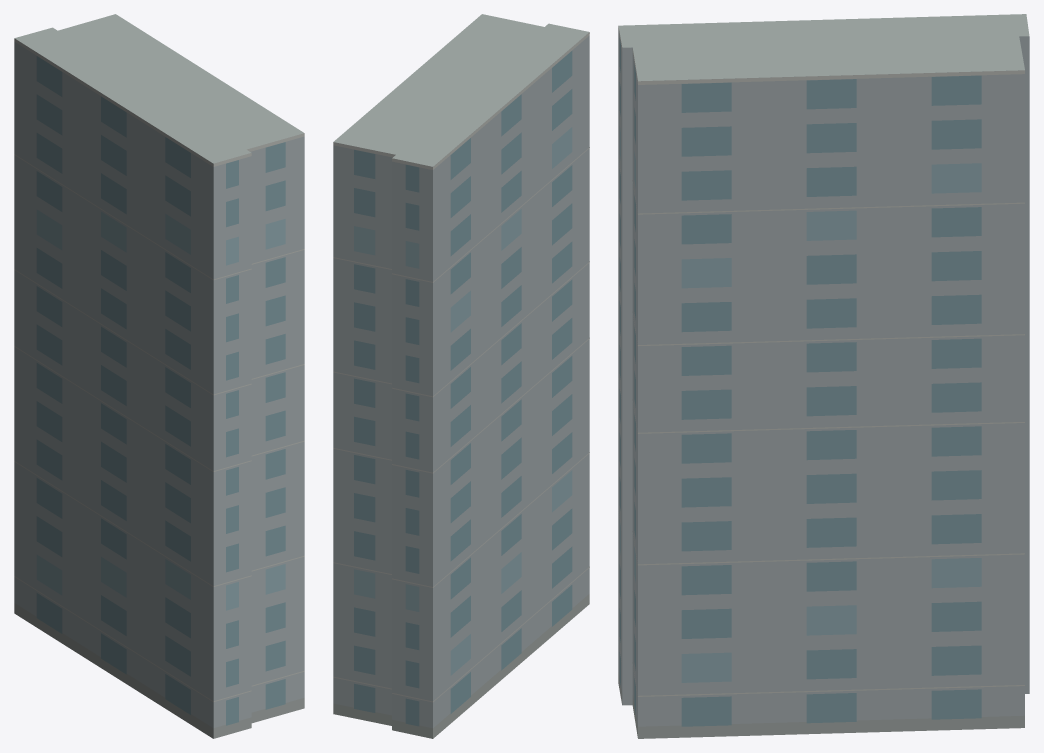
File: survey-upis-32996570.glb
The picture shows the model from 3 angles, left to right: view 1: azimuth 30°, elevation 25°; view 2: azimuth 150°, elevation 25°; view 3: azimuth 270°, elevation 25°; orthographic projection. The views are drawn at different scales.
Parts seen in each view (by area): view 1: survey-upis-32996570.tmp; view 2: survey-upis-32996570.tmp; view 3: survey-upis-32996570.tmp.
Boxes of the visible parts, x1,y1,x2,y2 form: survey-upis-32996570.tmp: (14,14,304,738); survey-upis-32996570.tmp: (333,14,589,738); survey-upis-32996570.tmp: (618,14,1029,738).
Size of the model in its own units: 9.25 by 42.1 by 23.87.
